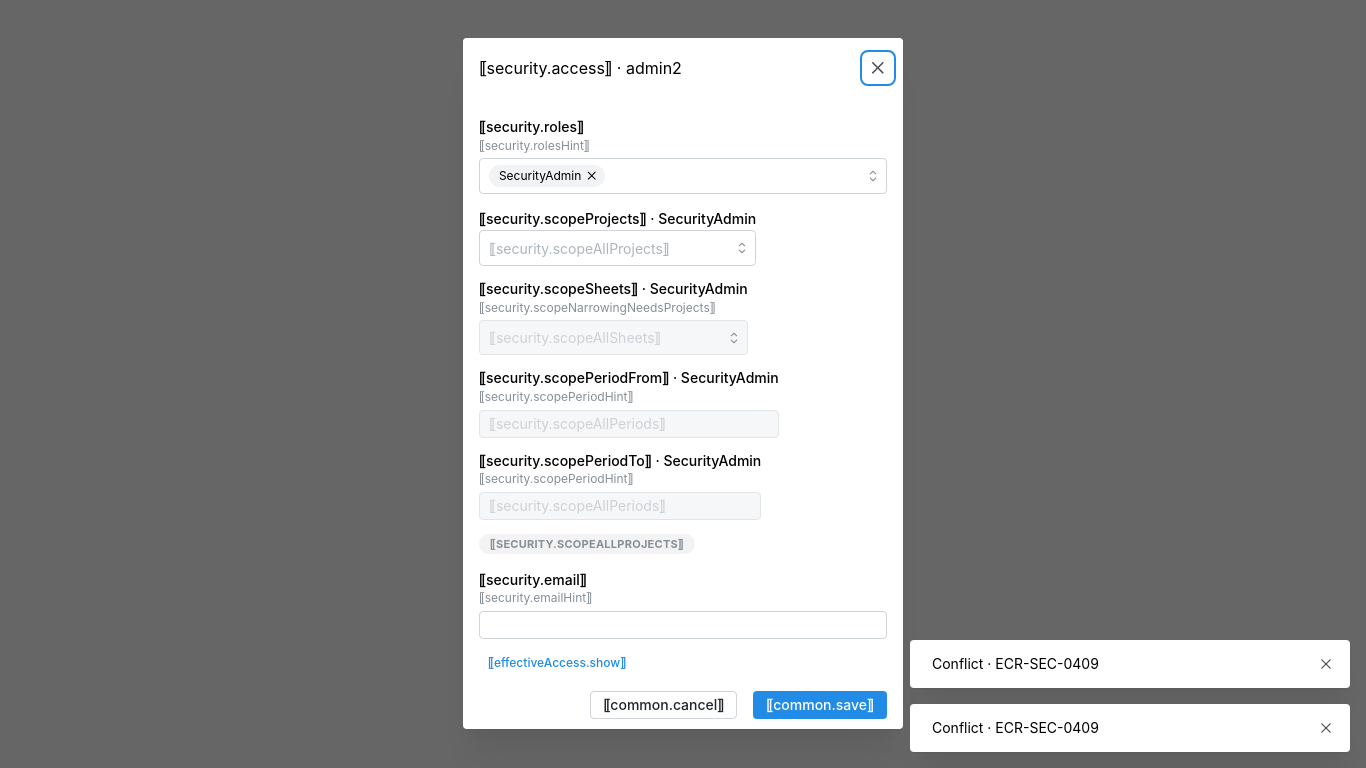
Test case: UserAccessEditor — останній адміністратор › інша відмова (500) поле ролей помилковим не робить
Expected: the text "SecurityAdmin" is shown, [499,165,581,187]
Click the button "⟦common.save⟧". click: (820, 705)
box: [753,691,887,719]
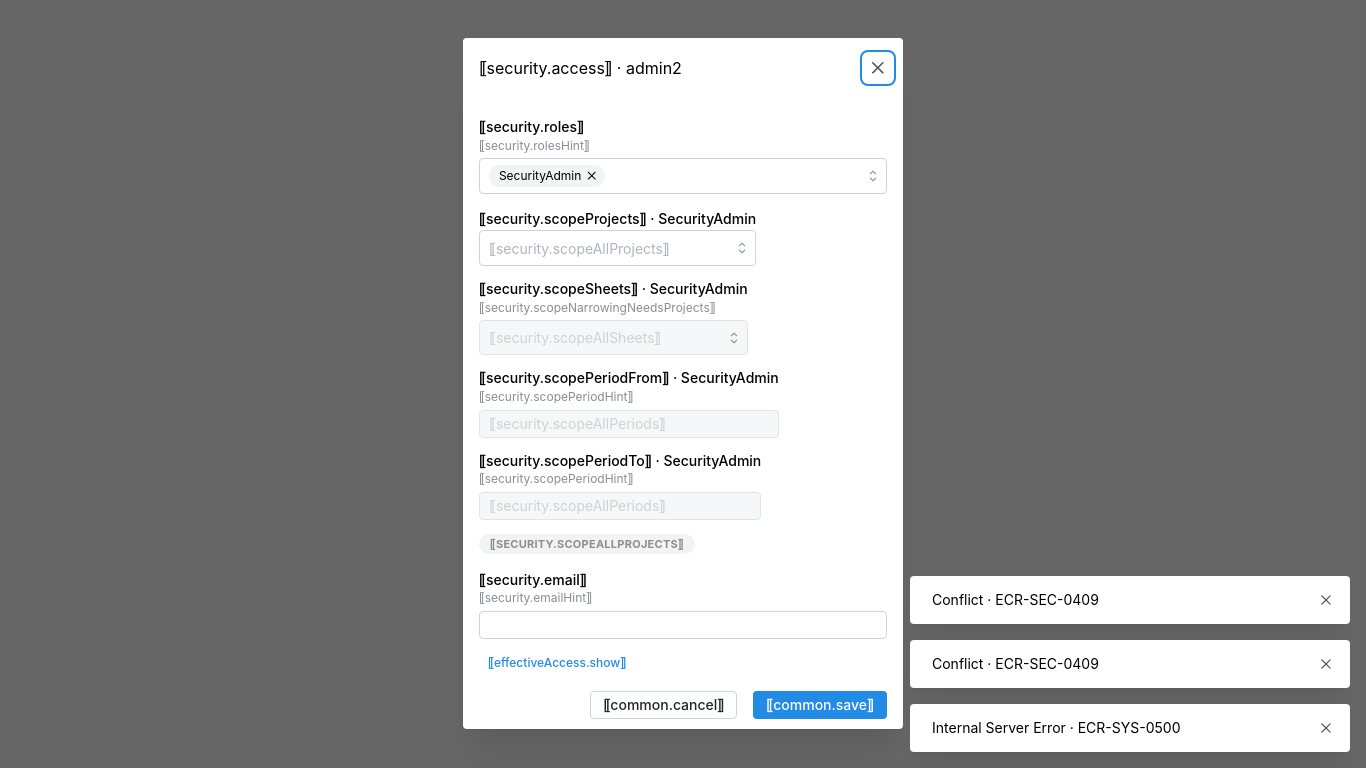
Now the text "Internal Server Error · ECR-SYS-0500" is shown, box [932,719,1180,736]
